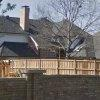Chimney: (16, 1, 37, 43)
